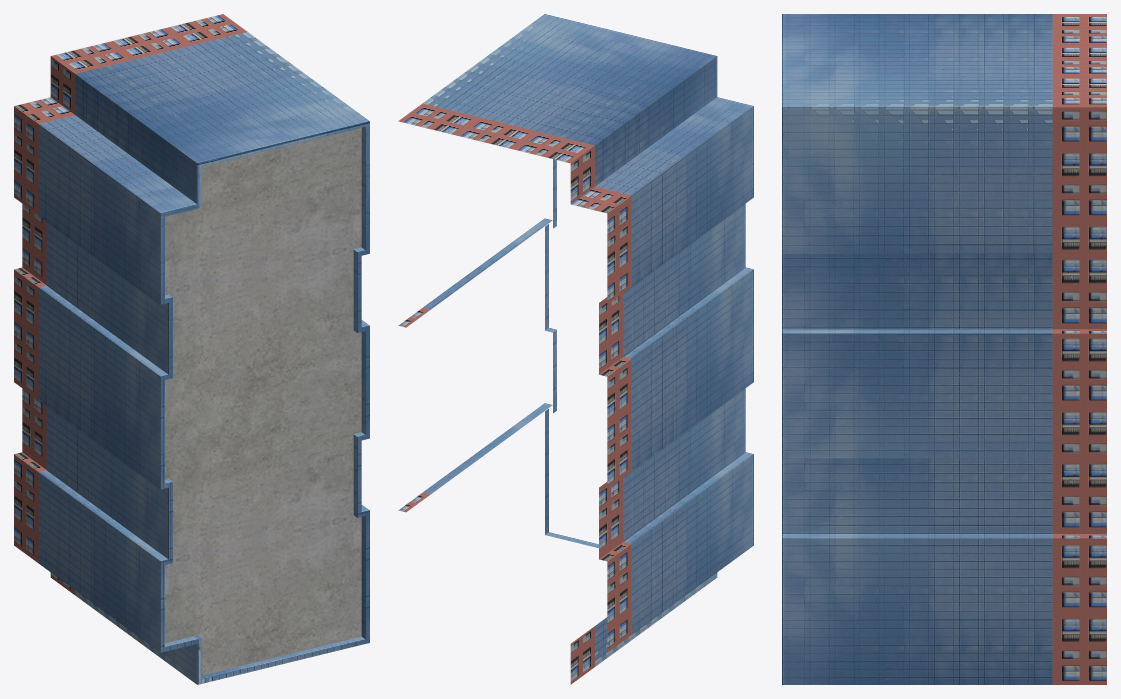
The model's file is sgy_h3.gltf.
The picture shows the model from 3 angles, left to right: view 1: azimuth 30°, elevation 25°; view 2: azimuth 150°, elevation 25°; view 3: azimuth 270°, elevation 25°; orthographic projection. The views are drawn at different scales.
Parts seen in each view (by area): view 1: Box012; view 2: Box012; view 3: Box012.
Boxes of the visible parts, x1=… form: Box012: x1=14, y1=14, x2=369, y2=684; Box012: x1=398, y1=14, x2=753, y2=684; Box012: x1=782, y1=14, x2=1106, y2=684.
Bounding box in the file's own units: 49.42 × 118 × 60.
Materials: 3 (3 with a texture image).
